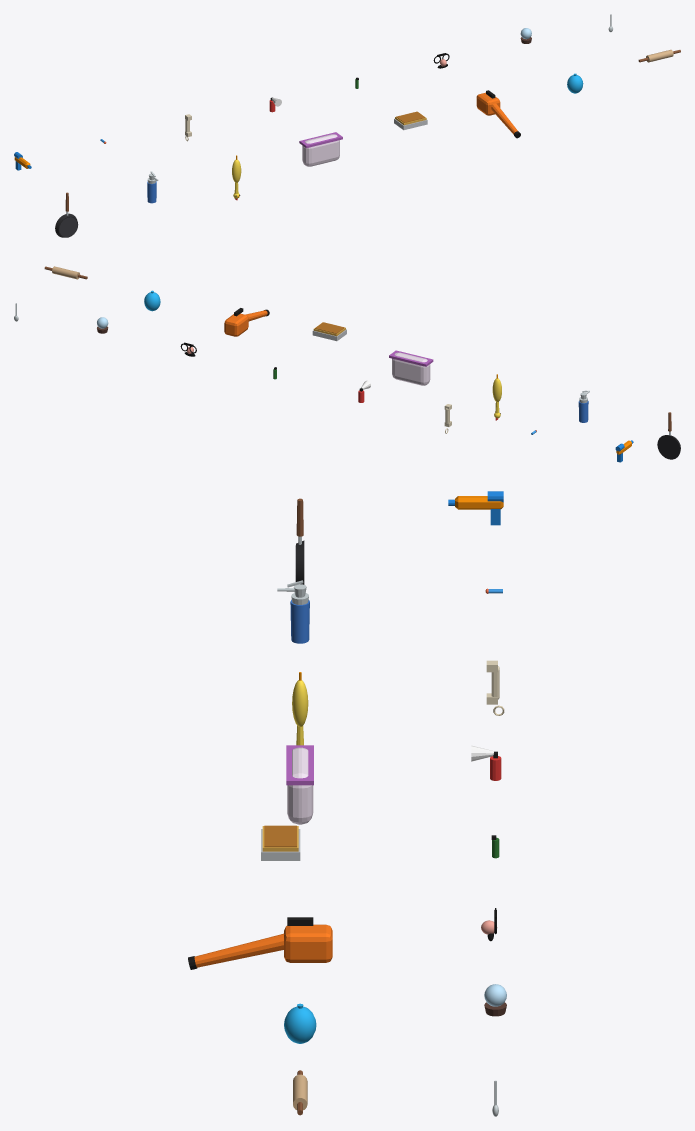
File: homes_items.glb
3 views of the same model, one above another, from view 1: azimuth 30°, elevation 25°; view 2: azimuth 150°, elevation 25°; view 3: azimuth 270°, elevation 25° (orthographic). The views are drawn at different scales.
Visible parts, largest first — view 1: Pillow_body, LeafBlower_body, Pan_body, Kugel_body; view 2: Pillow_body, LeafBlower_body, Pan_body, Kugel_body; view 3: LeafBlower_body, Pillow_body, Kugel_body, Seltzer_body, WaterBalloon_body, Nerf_body.
Part boxes in pixels (bbox=[...]): Pillow_body: bbox=[299, 132, 342, 166]; LeafBlower_body: bbox=[476, 90, 520, 138]; Pan_body: bbox=[55, 192, 78, 237]; Kugel_body: bbox=[394, 111, 427, 130]; Pillow_body: bbox=[389, 350, 433, 385]; LeafBlower_body: bbox=[224, 308, 269, 336]; Pan_body: bbox=[657, 412, 680, 459]; Kugel_body: bbox=[312, 322, 346, 341]; LeafBlower_body: bbox=[188, 917, 332, 969]; Pillow_body: bbox=[286, 745, 313, 824]; Kugel_body: bbox=[261, 825, 300, 860]; Seltzer_body: bbox=[277, 580, 309, 643]; WaterBalloon_body: bbox=[284, 1003, 316, 1043]; Nerf_body: bbox=[448, 491, 503, 525].
Size of the model in its own units: 8.85 by 0.72 by 1.96.
